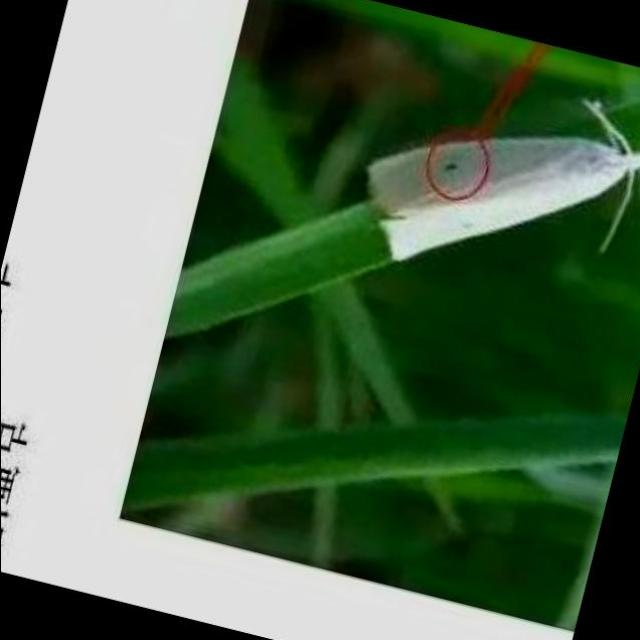stem borer: (367, 102, 640, 263)
